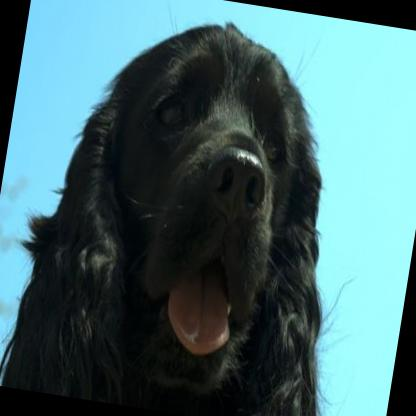cocker_spaniel: (0, 0, 388, 416)
